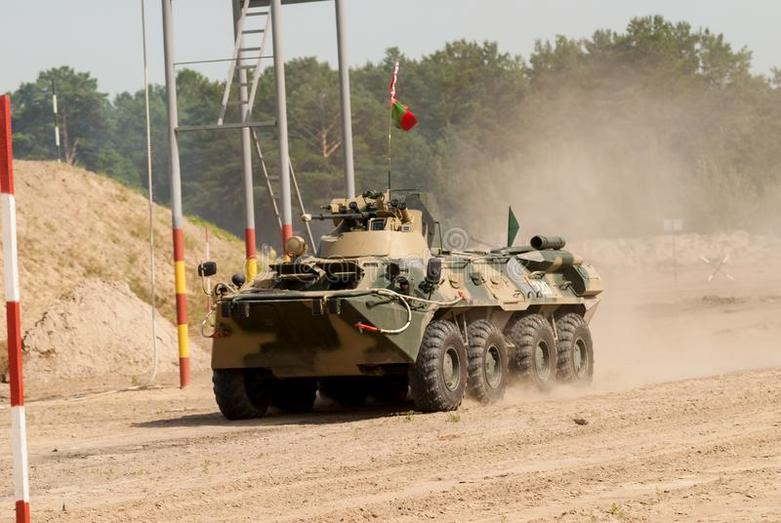btr: (222, 216, 596, 401)
